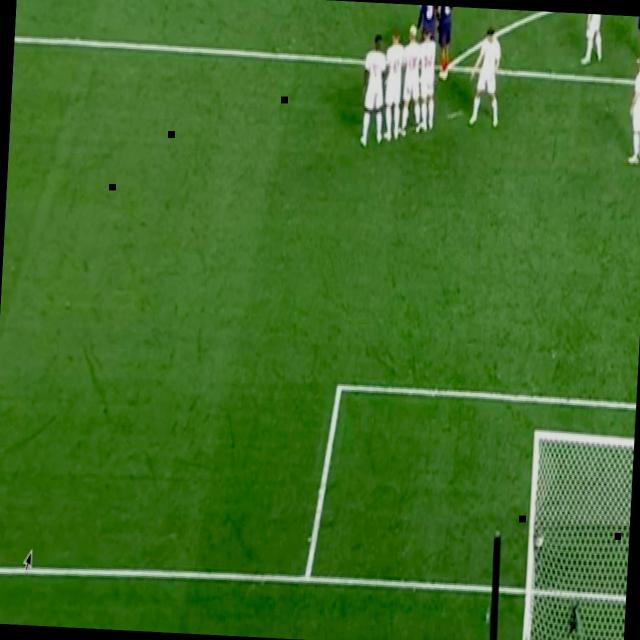player-white: (466, 20, 506, 134), (358, 31, 390, 151), (397, 25, 426, 137), (379, 26, 405, 145), (416, 21, 440, 133), (624, 49, 640, 167), (433, 6, 457, 84), (579, 13, 609, 68), (414, 5, 439, 47), (633, 16, 640, 63)
